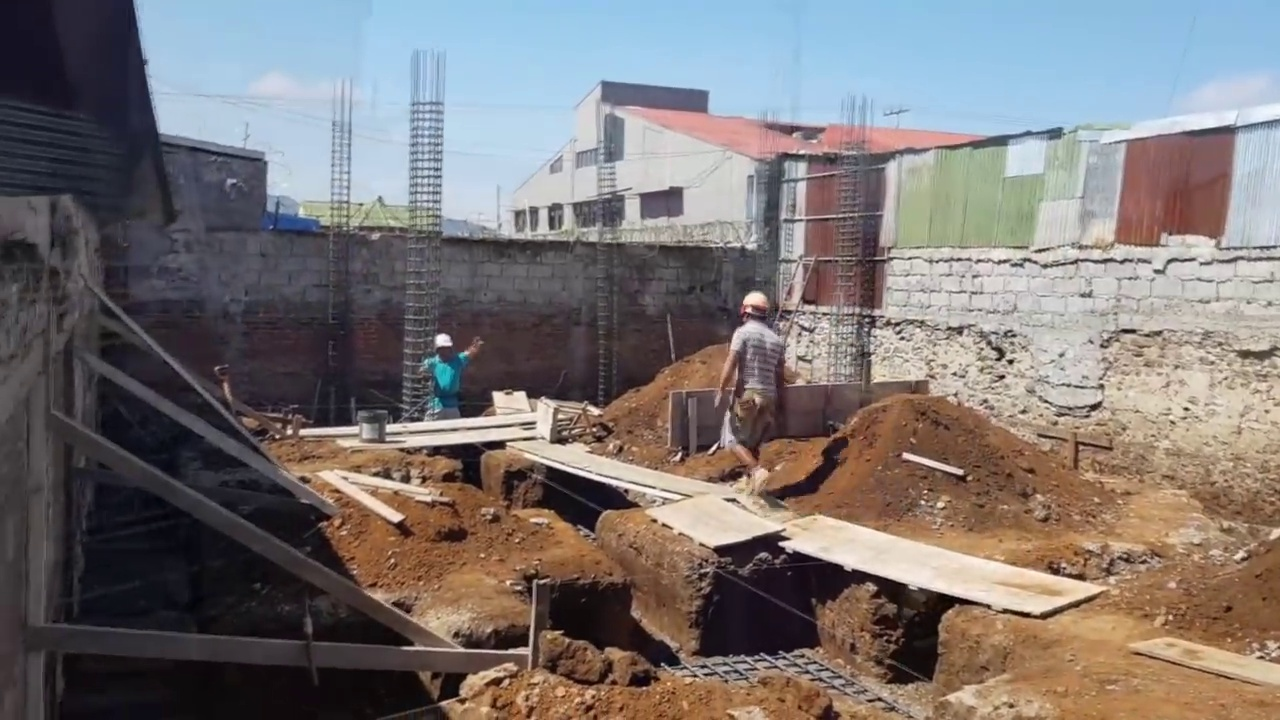helmet: (737, 292, 775, 314), (431, 334, 454, 350)
helmet-on: (735, 288, 776, 327), (432, 337, 455, 364)
person: (719, 289, 788, 473), (419, 330, 474, 426)
